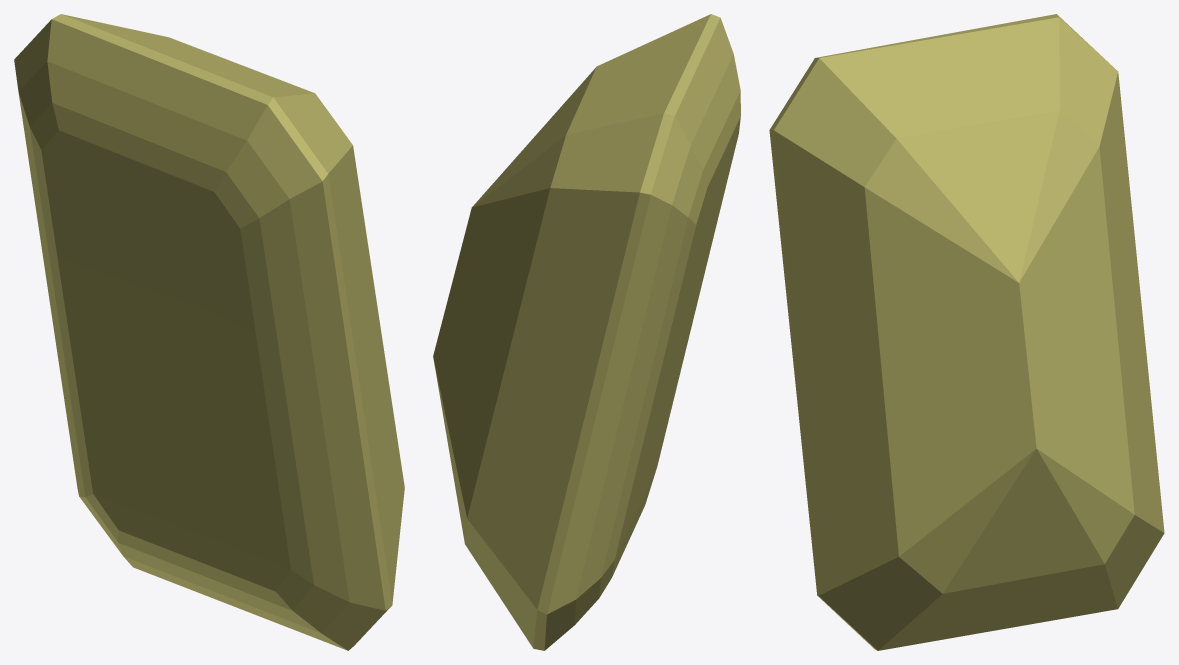
File: TL5_8shapes_Emerald_Classic_Stone.001 2.glb
3 renders of one model, left to right at view 1: azimuth 30°, elevation 25°; view 2: azimuth 150°, elevation 25°; view 3: azimuth 270°, elevation 25°, orthographic. The views are drawn at different scales.
Parts seen in each view (by area): view 1: TL5_8shapes_Emerald_Classic_Stone.001; view 2: TL5_8shapes_Emerald_Classic_Stone.001; view 3: TL5_8shapes_Emerald_Classic_Stone.001.
Boxes of the visible parts, x1,y1,x2,y2 form: TL5_8shapes_Emerald_Classic_Stone.001: (14,14,404,650); TL5_8shapes_Emerald_Classic_Stone.001: (433,14,740,650); TL5_8shapes_Emerald_Classic_Stone.001: (769,14,1164,650).
Bounding box in the file's own units: 0.3024 × 0.5885 × 0.383.
